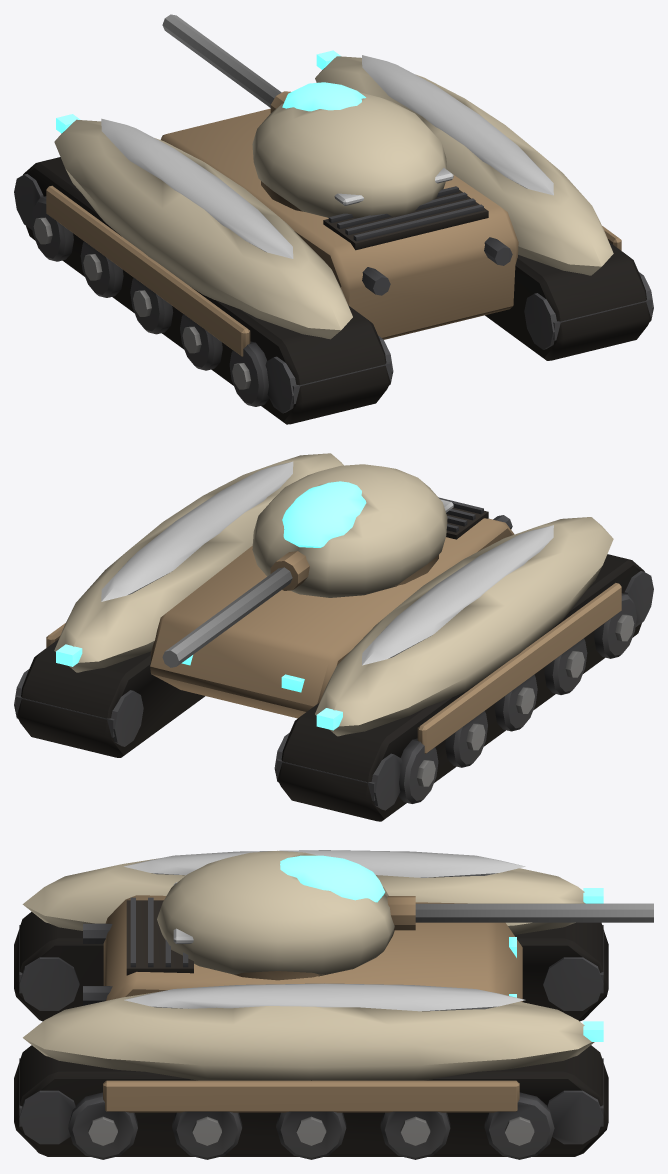
File: ORDOS_COMBAT_TANK.glb
3 renders of one model, top to bottom at view 1: azimuth 30°, elevation 25°; view 2: azimuth 150°, elevation 25°; view 3: azimuth 270°, elevation 25°, orthographic. The views are drawn at different scales.
Parts seen in each view (by area): view 1: hull, turret, barrel, wheel_L0, wheel_L4, wheel_L1, wheel_L2, wheel_L3, idler_R, idler_L, sprocket_L; view 2: hull, turret, barrel, wheel_L4, wheel_L0, wheel_L2, wheel_L1, wheel_L3, sprocket_R, sprocket_L, idler_L; view 3: hull, turret, barrel, wheel_R4, wheel_R0, wheel_R3, wheel_R2, wheel_R1, idler_L, sprocket_L, idler_R, sprocket_R.
Boxes of the visible parts, x1,y1,x2,y2 form: hull: (23,50,652,424); turret: (252,82,453,217); barrel: (162,14,290,112); wheel_L0: (229,341,269,406); wheel_L4: (31,196,73,261); wheel_L1: (180,314,222,370); wheel_L2: (130,277,173,334); wheel_L3: (80,241,123,297); idler_R: (524,272,653,349); idler_L: (265,335,393,413); sprocket_L: (14,174,43,229); hull: (15,453,644,821); turret: (252,464,453,597); barrel: (162,551,309,667); wheel_L4: (398,738,438,803); wheel_L0: (594,593,636,658); wheel_L2: (494,674,537,731); wheel_L1: (544,638,587,694); wheel_L3: (445,711,487,767); sprocket_R: (14,669,143,746); sprocket_L: (274,732,402,810); idler_L: (624,571,653,626); hull: (14,850,608,1156); turret: (157,850,394,980); barrel: (387,896,653,930); wheel_R4: (484,1092,554,1159); wheel_R0: (68,1092,137,1159); wheel_R3: (380,1111,450,1159); wheel_R2: (276,1111,346,1159); wheel_R1: (172,1111,242,1159); idler_L: (19,957,79,1010); sprocket_L: (543,957,603,1010); idler_R: (19,1090,75,1144); sprocket_R: (547,1090,603,1144).
Size of the model in its own units: 0.7 by 0.34 by 0.9527.
